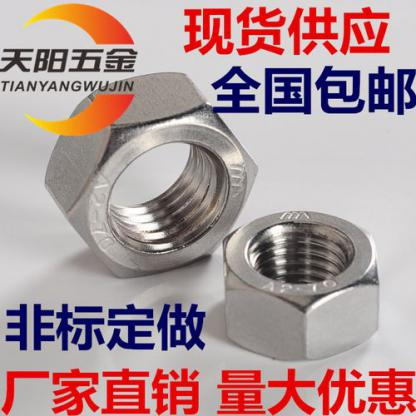FOD: (39, 67, 261, 281), (216, 210, 386, 360)
